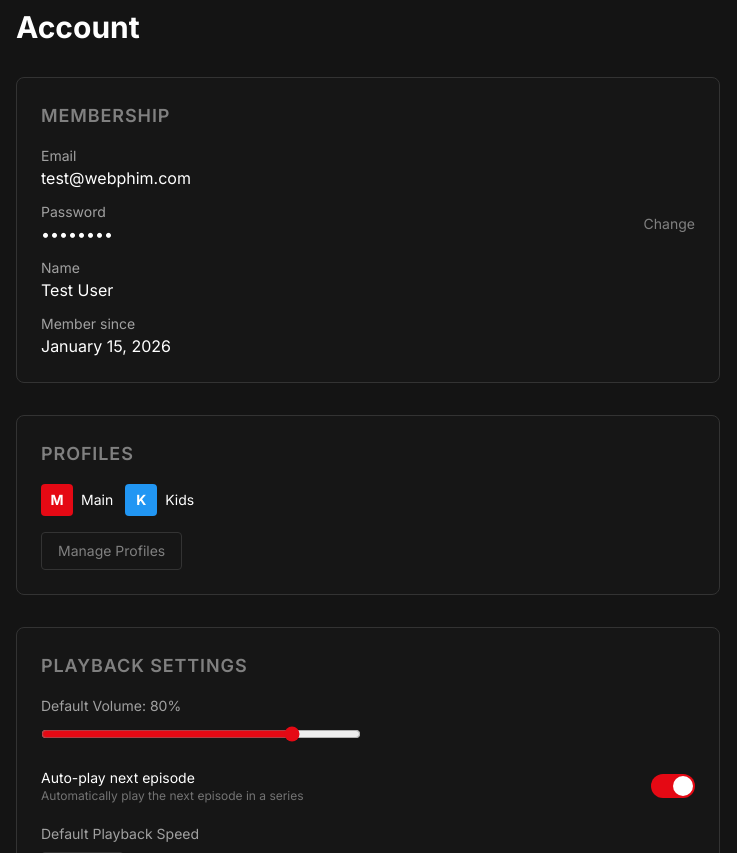
Test case: AccountPage › shows success message after password change
Click the button with test id "change-password-toggle": x=669, y=224 [644,214,695,234]
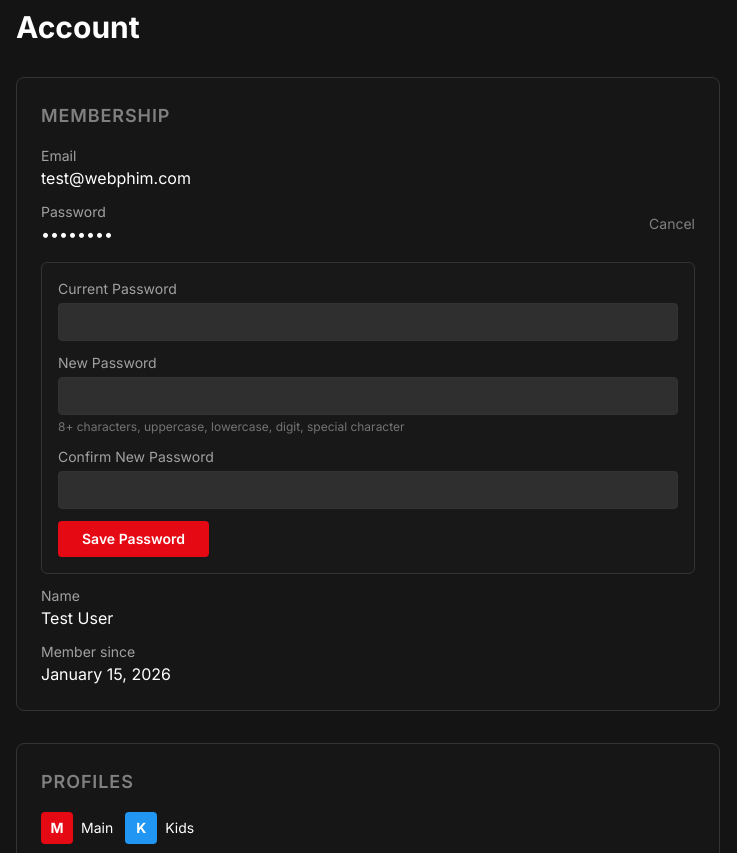
In the password field with test id "current-password-input": x=368, y=322 [58,303,678,341], type "OldPass@1"
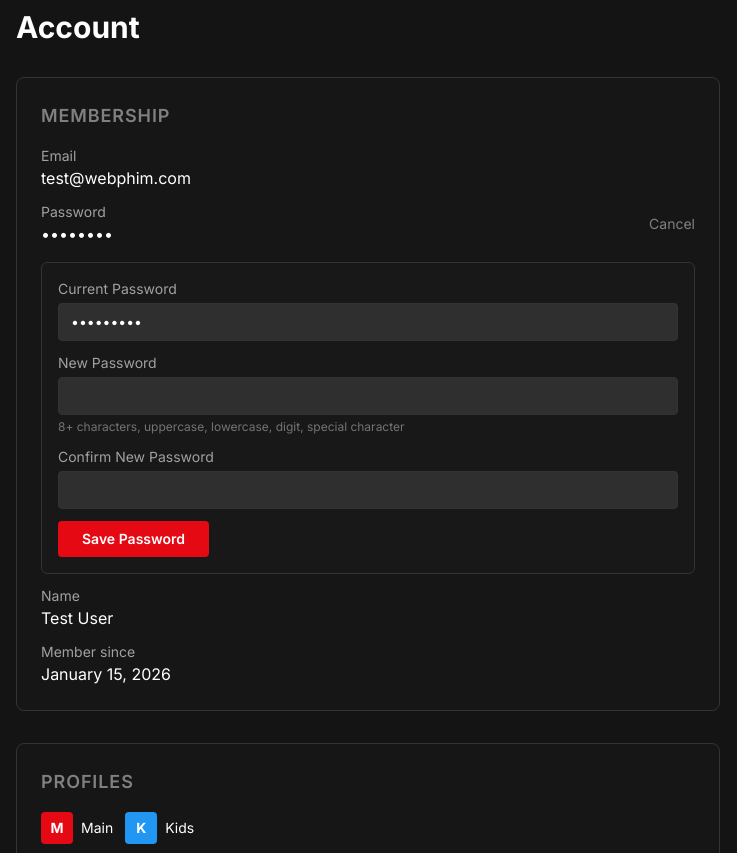
In the password field with test id "new-password-input": x=368, y=396 [58,377,678,415], type "NewPass@1"
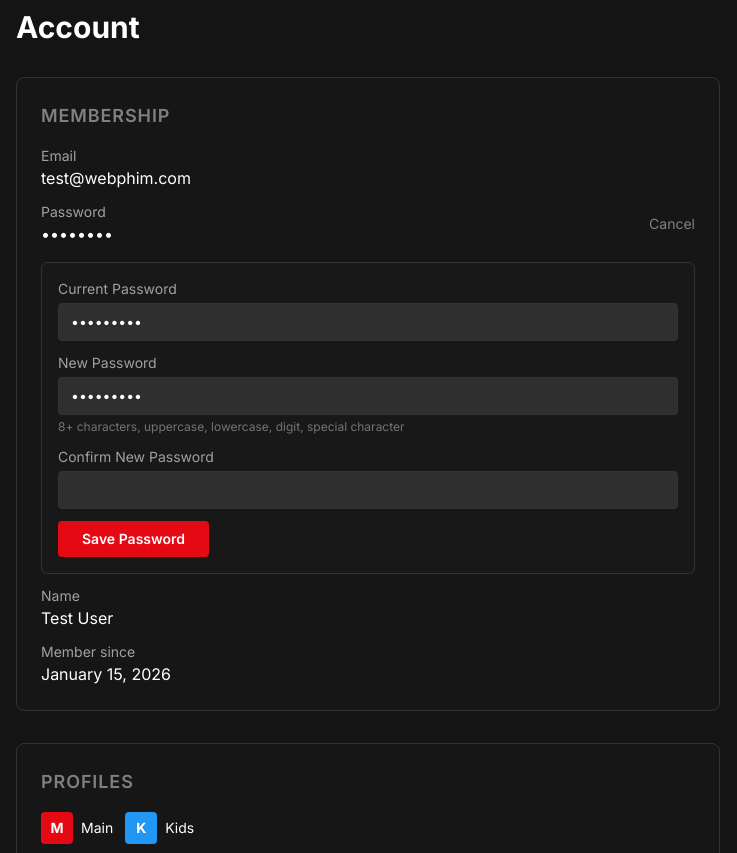
In the password field with test id "confirm-password-input": x=368, y=490 [58,471,678,509], type "NewPass@1"
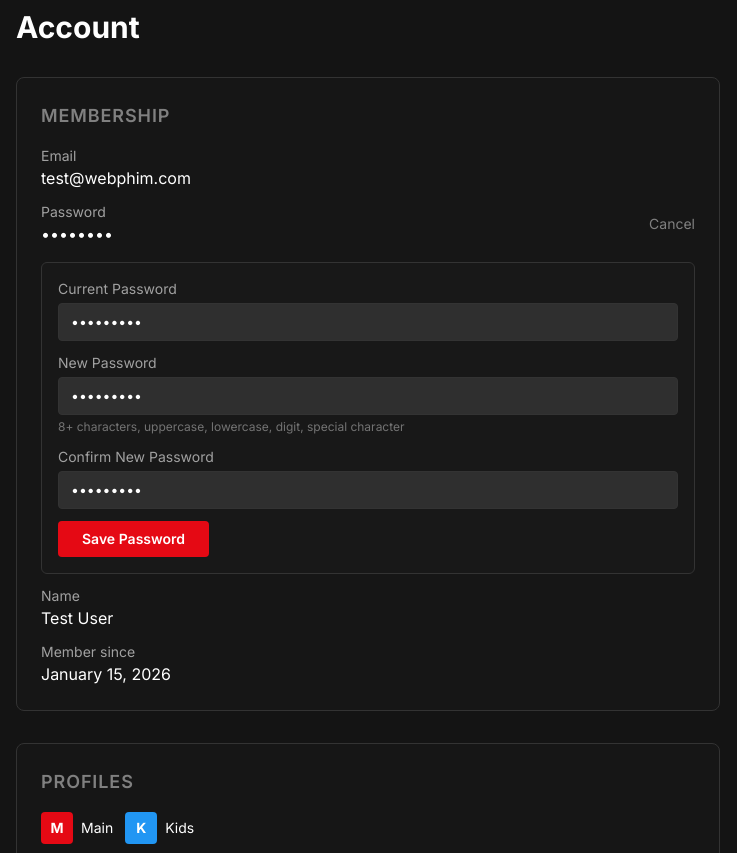
Click the button with test id "submit-password": x=134, y=539 [58,521,209,557]
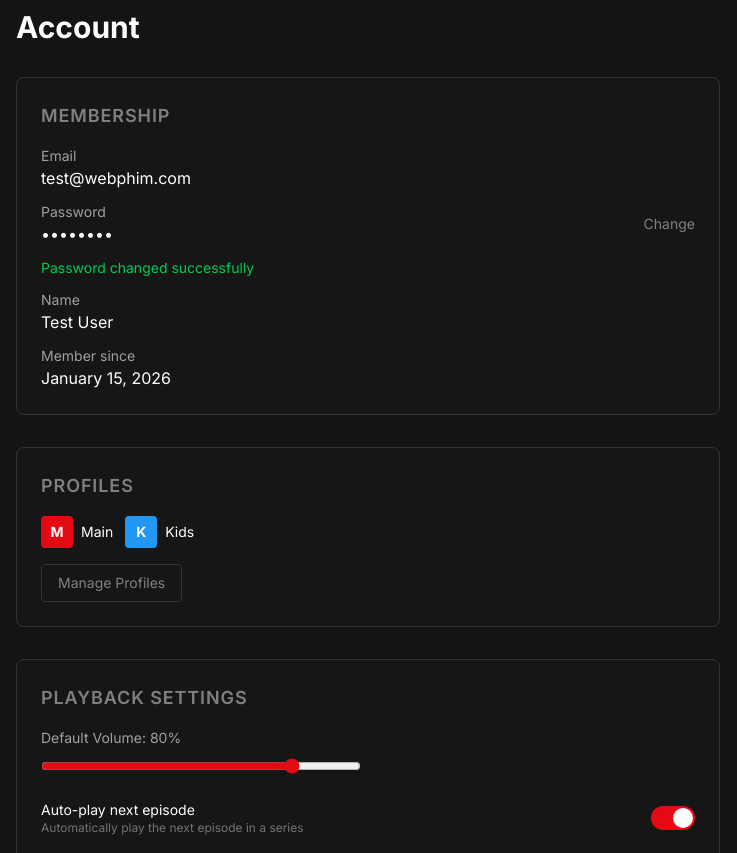
Check: the message with test id "password-success" reads "Password changed successfully", box [41,259,254,276]
